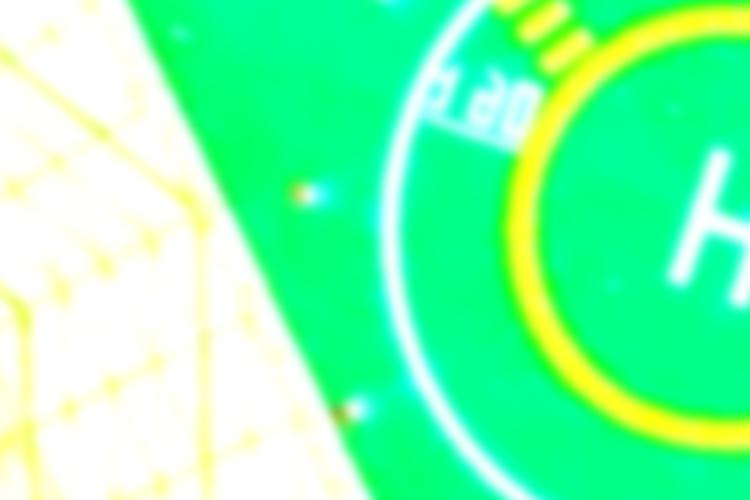Apron: (479, 13, 750, 442)
